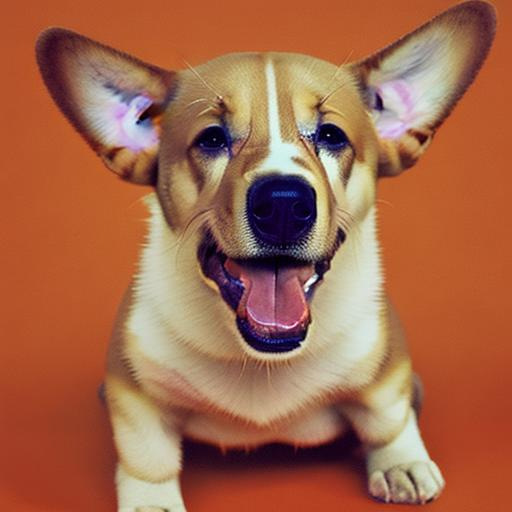eye: (308, 109, 355, 154), (189, 116, 230, 154)
